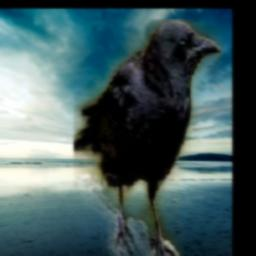Crow: (75, 20, 223, 256)
